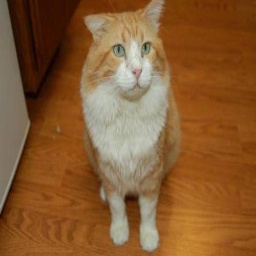cat: (84, 1, 186, 255)
